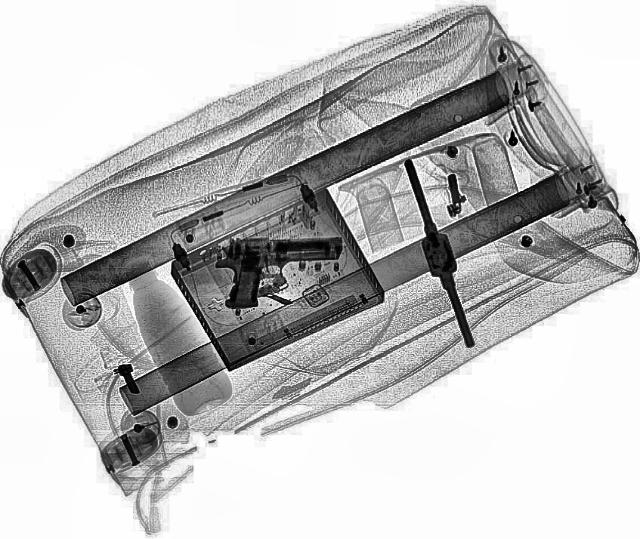Gun: (214, 237, 344, 308)
